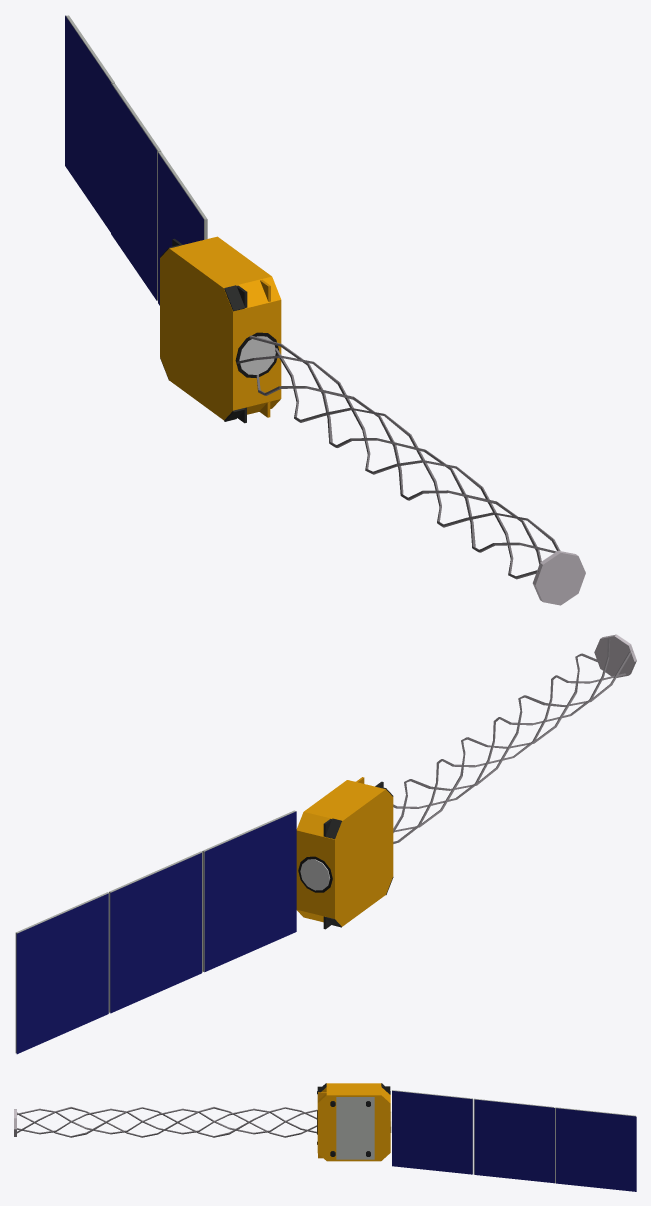
File: orbcomm2_med.gltf
3 views of the same model, one above another, from view 1: azimuth 30°, elevation 25°; view 2: azimuth 150°, elevation 25°; view 3: azimuth 270°, elevation 25° (orthographic). The views are drawn at different scales.
Parts seen in each view (by area): view 1: Cube, Cube.021, Cube.023, Cube.028, Cube.019, Cylinder.004, Cylinder.005; view 2: Cube.019, Cube.023, Cube.021, Cube, Cube.028, Cylinder.004, Cylinder.005, Cube.017, Cube.016, Cube.002; view 3: Cube.018, Cube.020, Cube.022, Cube, Cube.028, Cube.011, Cube.016, Cube.017, Cube.002.
Boxes of the visible parts, x1,y1,x2,y2 form: Cube: [160, 236, 281, 420]; Cube.021: [111, 84, 156, 300]; Cube.023: [65, 15, 110, 232]; Cube.028: [237, 335, 560, 579]; Cube.019: [158, 153, 203, 305]; Cylinder.004: [532, 550, 585, 605]; Cylinder.005: [239, 336, 275, 374]; Cube.019: [204, 811, 296, 971]; Cube.023: [16, 893, 108, 1054]; Cube.021: [110, 853, 201, 1013]; Cube: [296, 780, 393, 926]; Cube.028: [393, 638, 632, 843]; Cylinder.004: [594, 634, 636, 677]; Cylinder.005: [300, 859, 330, 890]; Cube.017: [15, 892, 109, 1053]; Cube.016: [109, 851, 202, 1012]; Cube.002: [202, 810, 296, 971]; Cube.018: [392, 1091, 472, 1174]; Cube.020: [474, 1099, 554, 1183]; Cube.022: [556, 1108, 636, 1191]; Cube: [317, 1083, 390, 1161]; Cube.028: [17, 1107, 317, 1137]; Cube.011: [336, 1097, 374, 1159]; Cube.016: [473, 1098, 554, 1174]; Cube.017: [555, 1107, 635, 1183]; Cube.002: [392, 1090, 472, 1173].
Bounding box in the file's own units: 2.48 × 2.28 × 17.1.
